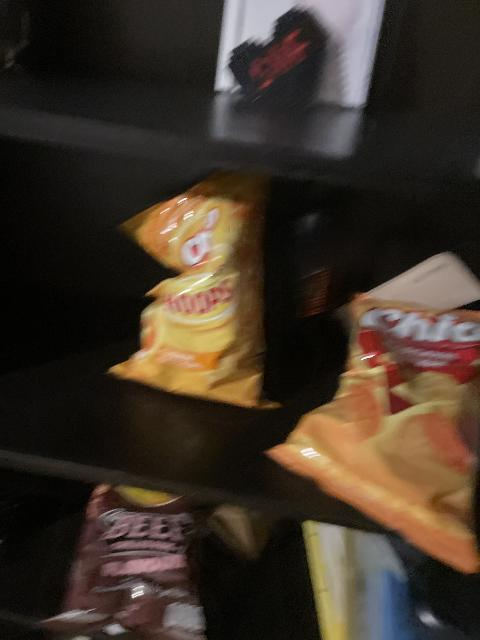Chio Cascaval 125g: (266, 282, 478, 578)
Chio Hula Hoops Cheese 70g: (103, 172, 281, 407)
Lays Beef Grilled Ribs 125g: (38, 481, 216, 640)
